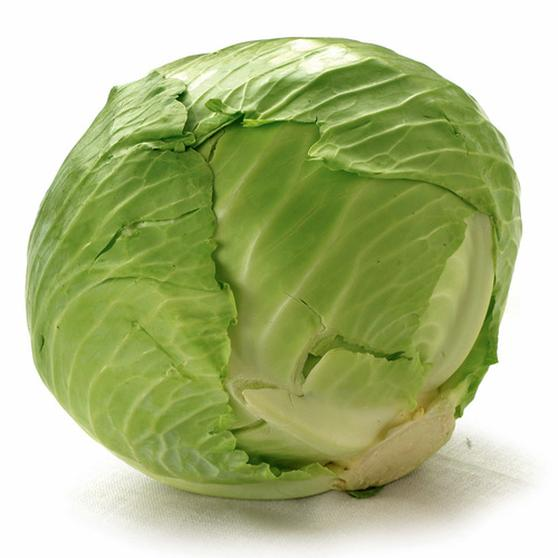cabbage: (29, 33, 524, 502)
